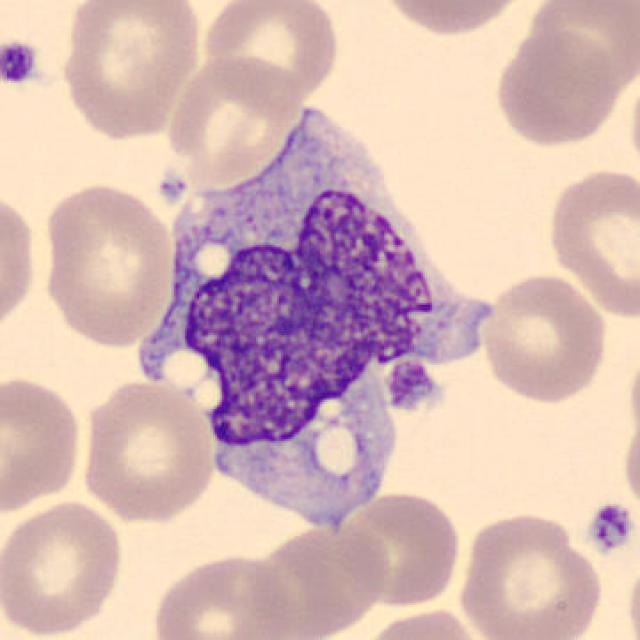Monocyte: (115, 85, 498, 522)
Platelets: (382, 358, 443, 414), (583, 497, 637, 557), (0, 37, 41, 88), (154, 171, 188, 206)
RBC: (38, 178, 180, 351), (76, 378, 218, 526), (57, 0, 204, 141), (455, 508, 606, 640), (164, 49, 306, 187), (250, 514, 396, 640), (476, 270, 610, 406), (0, 497, 126, 638), (490, 25, 628, 150), (197, 0, 343, 109), (334, 488, 464, 608), (544, 162, 640, 321), (147, 550, 300, 640), (0, 370, 85, 516), (524, 0, 639, 100), (0, 184, 41, 340), (375, 0, 535, 39), (355, 606, 488, 640), (620, 409, 640, 524), (627, 56, 640, 185), (624, 548, 640, 640)
